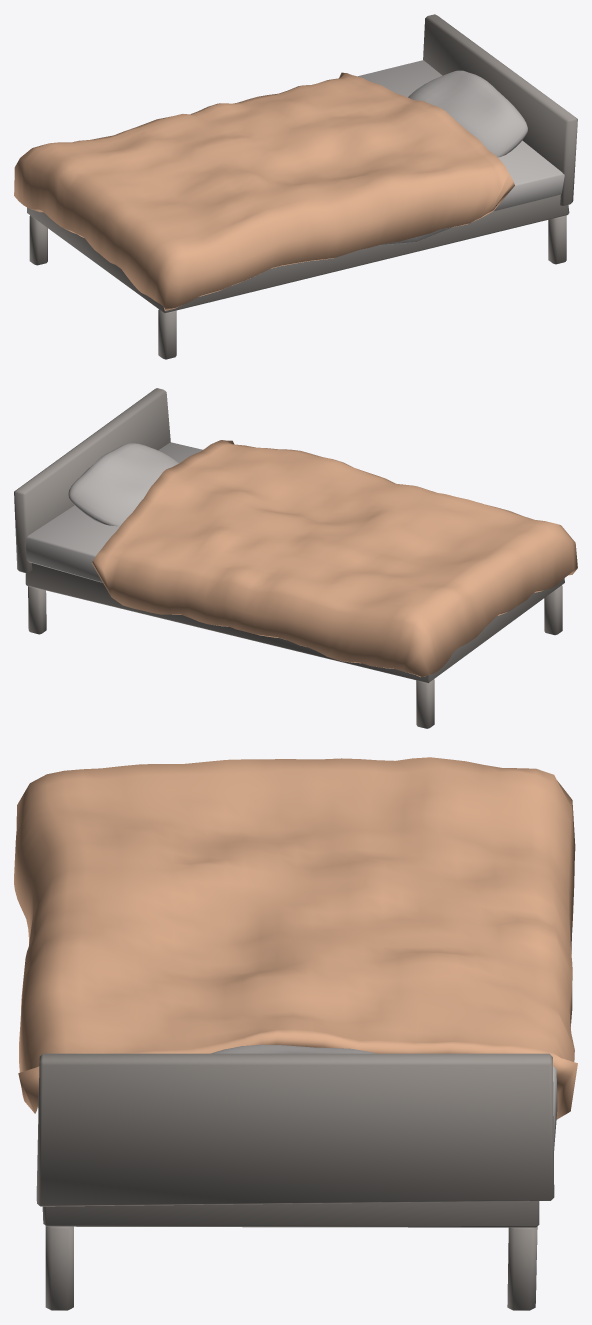
Rendered from bed.fbx.
The picture shows the model from 3 angles, top to bottom: view 1: azimuth 30°, elevation 25°; view 2: azimuth 150°, elevation 25°; view 3: azimuth 270°, elevation 25°; orthographic projection. The views are drawn at different scales.
Parts seen in each view (by area): view 1: bed; view 2: bed; view 3: bed.
Boxes of the visible parts, left/top/right/bottom form: bed: left=14, top=14, right=577, bottom=359; bed: left=14, top=388, right=577, bottom=728; bed: left=14, top=757, right=577, bottom=1310.
Bounding box in the file's own units: 511 × 167 × 330.
Materials: 1 (1 with a texture image).
